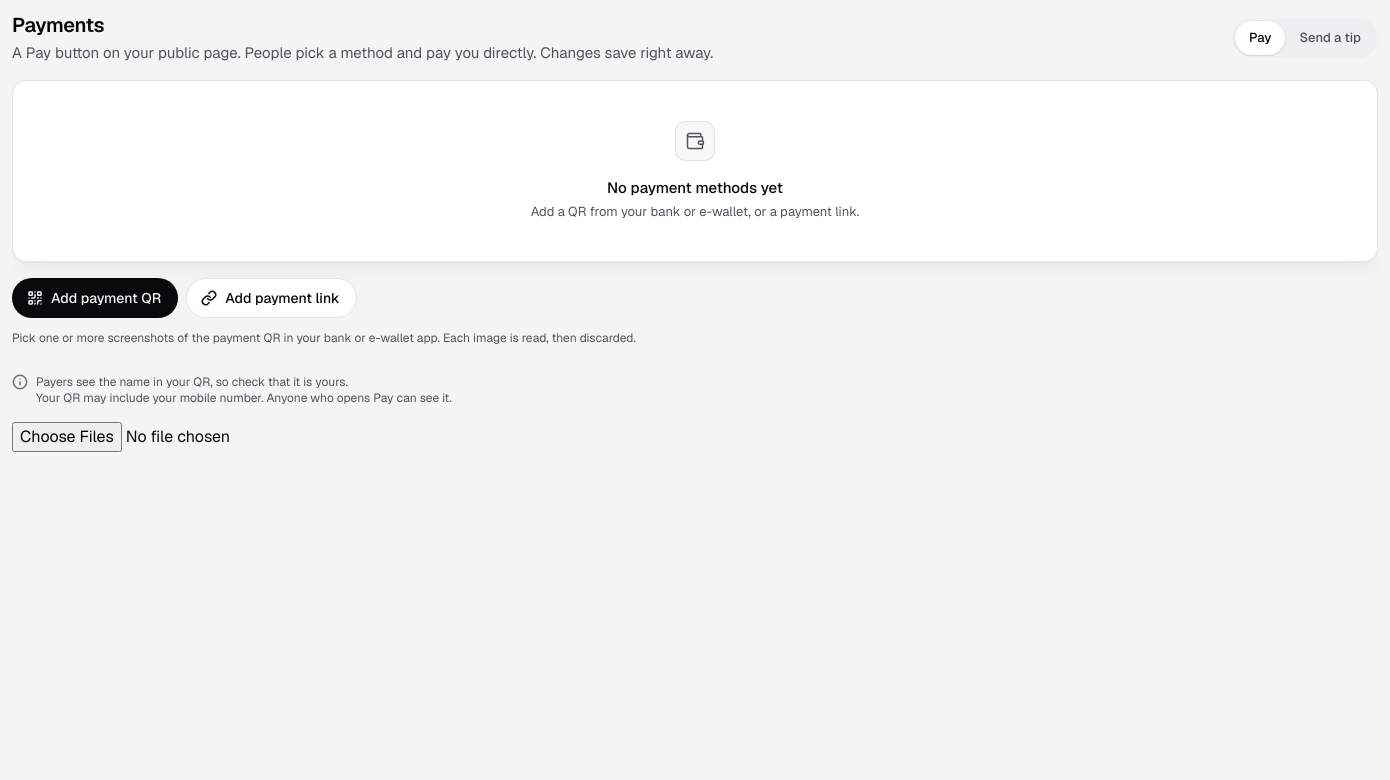
Test: PaymentMethods › adding a link › keeps the link field behind a secondary button
Step 1. Click the button "Add payment link" → (272, 298), box top-left (186, 278), bottom-right (357, 318)
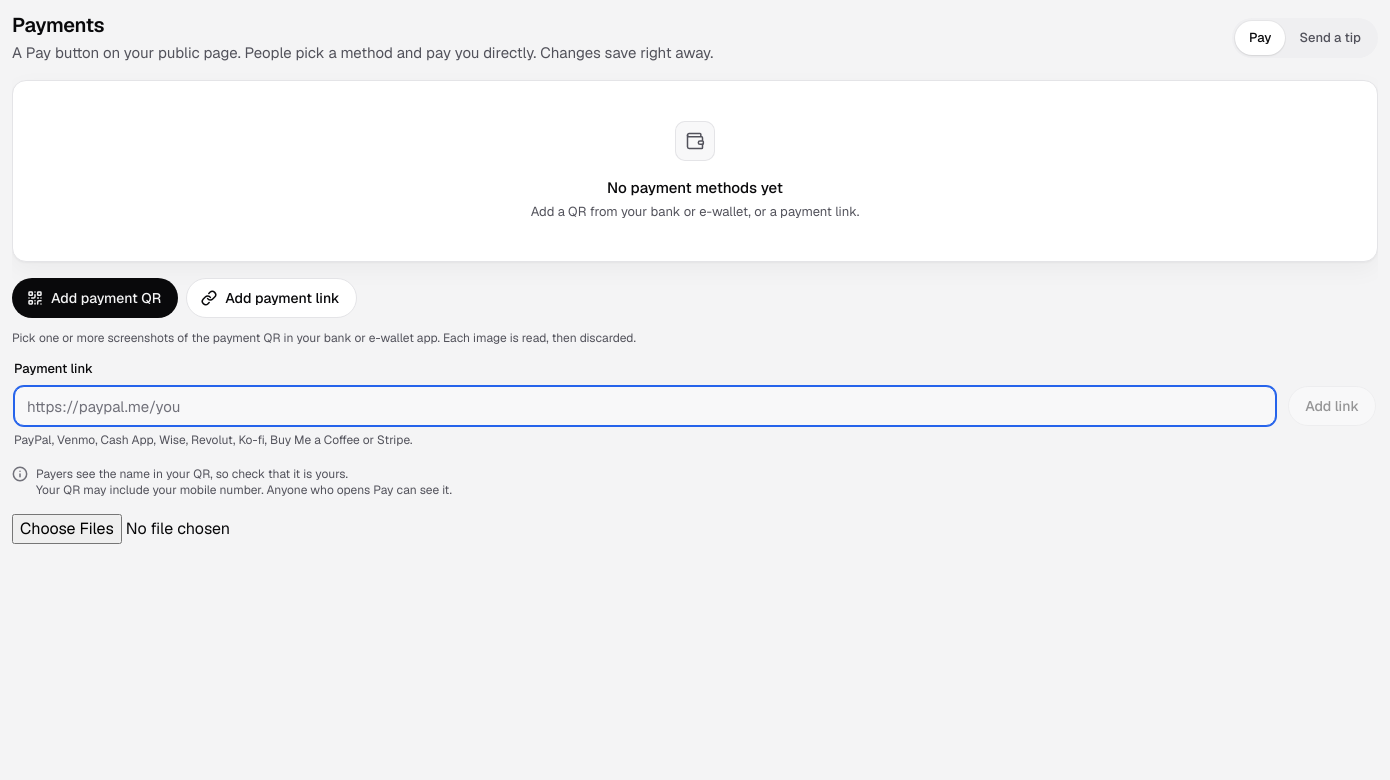
Expected: the field labelled "Payment link" is shown, top-left (27, 387), bottom-right (1263, 425)
